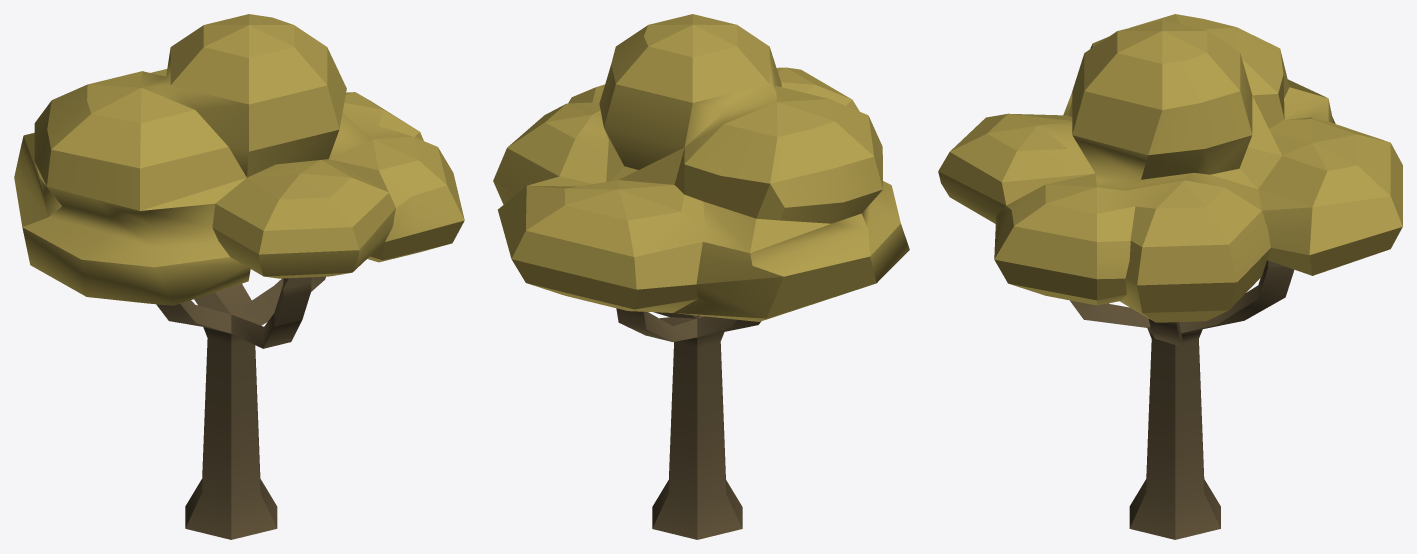
File: tree_yellow.fbx
3 views of the same model, side by side, from view 1: azimuth 30°, elevation 25°; view 2: azimuth 150°, elevation 25°; view 3: azimuth 270°, elevation 25° (orthographic).
Parts seen in each view (by area): view 1: tree_yellow; view 2: tree_yellow; view 3: tree_yellow.
Boxes of the visible parts, box(x1,y1,x2,y2) form: tree_yellow: box(14, 14, 464, 539); tree_yellow: box(493, 14, 909, 539); tree_yellow: box(938, 14, 1402, 539).
Bounding box in the file's own units: 45.1 × 56.74 × 48.56.
